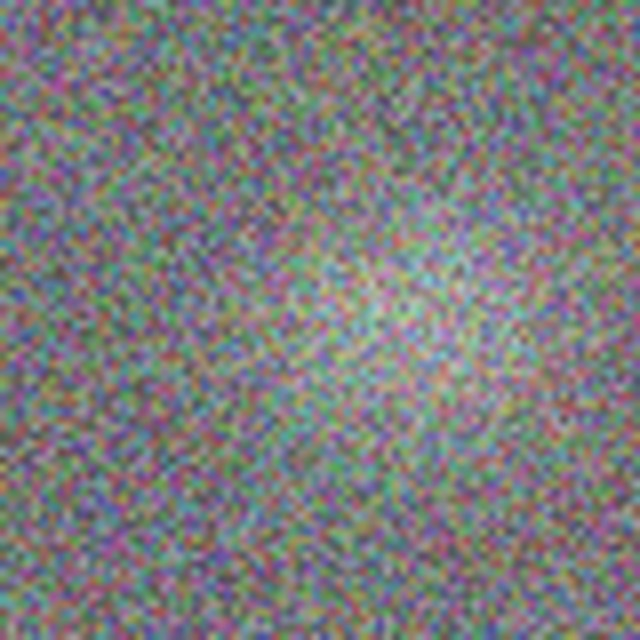smoke: (249, 280, 507, 538)
